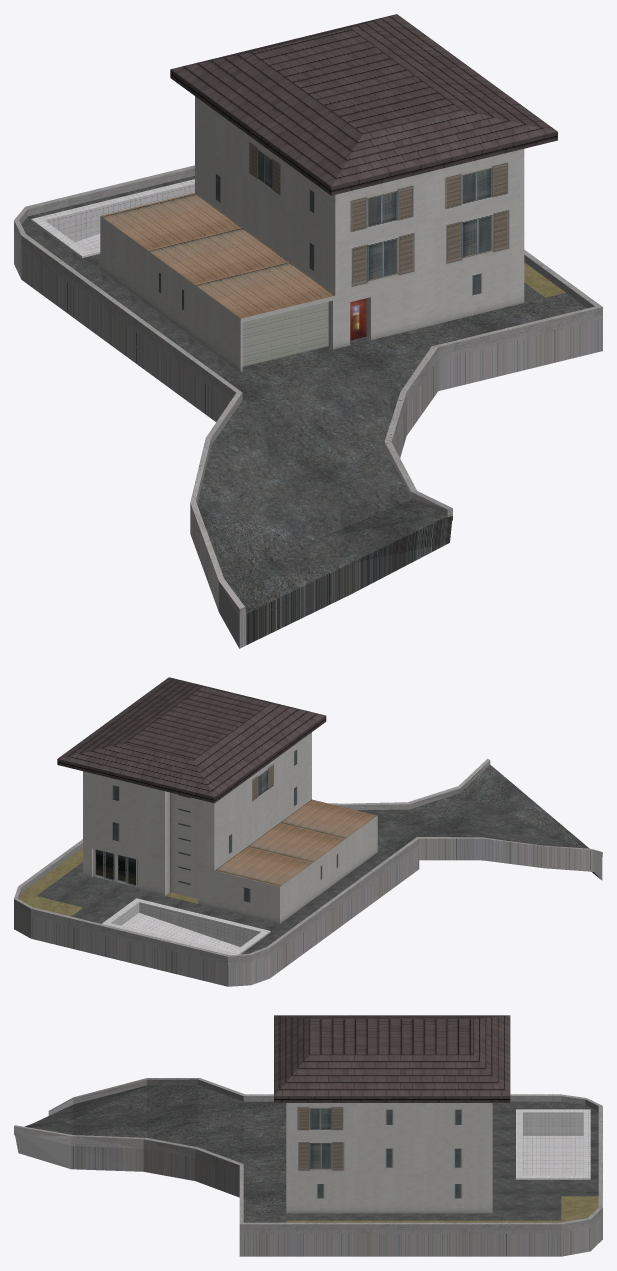
The model's file is bigboxtmp19.obj.
3 renders of one model, top to bottom at view 1: azimuth 30°, elevation 25°; view 2: azimuth 150°, elevation 25°; view 3: azimuth 270°, elevation 25°, orthographic. The views are drawn at different scales.
Parts seen in each view (by area): view 1: bigboxtmp19; view 2: bigboxtmp19; view 3: bigboxtmp19.
Boxes of the visible parts, x1,y1,x2,y2 form: bigboxtmp19: (14,14,602,648); bigboxtmp19: (14,677,602,986); bigboxtmp19: (14,1015,602,1256).
Bounding box in the file's own units: 32.21 × 19.31 × 44.99.
11 materials, 11 textured.
